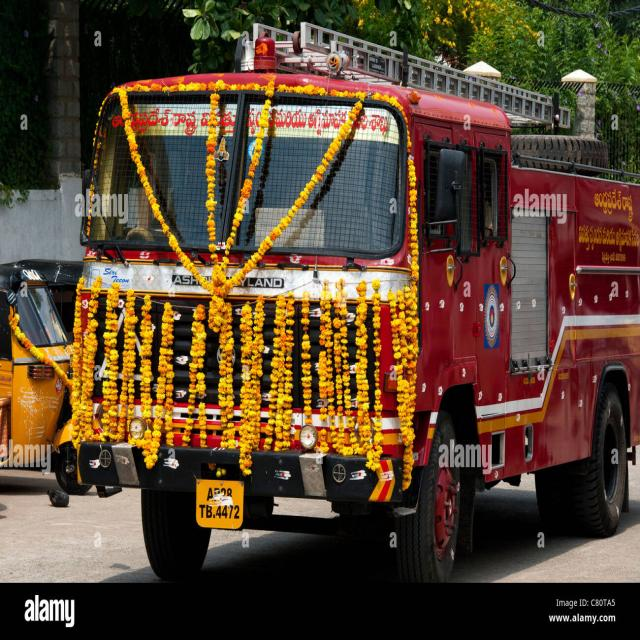Fire Truck: (71, 67, 640, 561)
